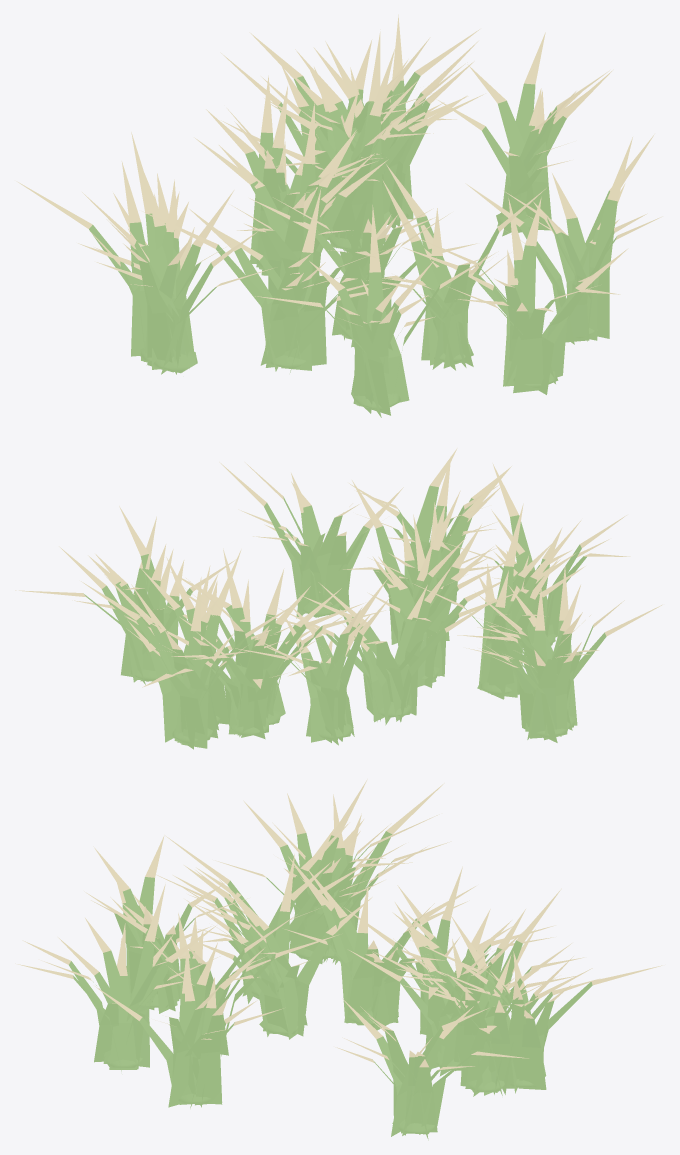
File: Blender_LakeDuneGrass_1.glb
3 views of the same model, one above another, from view 1: azimuth 30°, elevation 25°; view 2: azimuth 150°, elevation 25°; view 3: azimuth 270°, elevation 25° (orthographic). The views are drawn at different scales.
Visible parts, largest first — view 1: Blender_LakeDuneGrass_1; view 2: Blender_LakeDuneGrass_1; view 3: Blender_LakeDuneGrass_1.
Part boxes in pixels (box(x1,y1,x2,y2)): Blender_LakeDuneGrass_1: box(16, 14, 662, 417); Blender_LakeDuneGrass_1: box(15, 448, 662, 749); Blender_LakeDuneGrass_1: box(15, 779, 662, 1140).
Bounding box in the file's own units: 3.01 × 0.8505 × 3.25.
